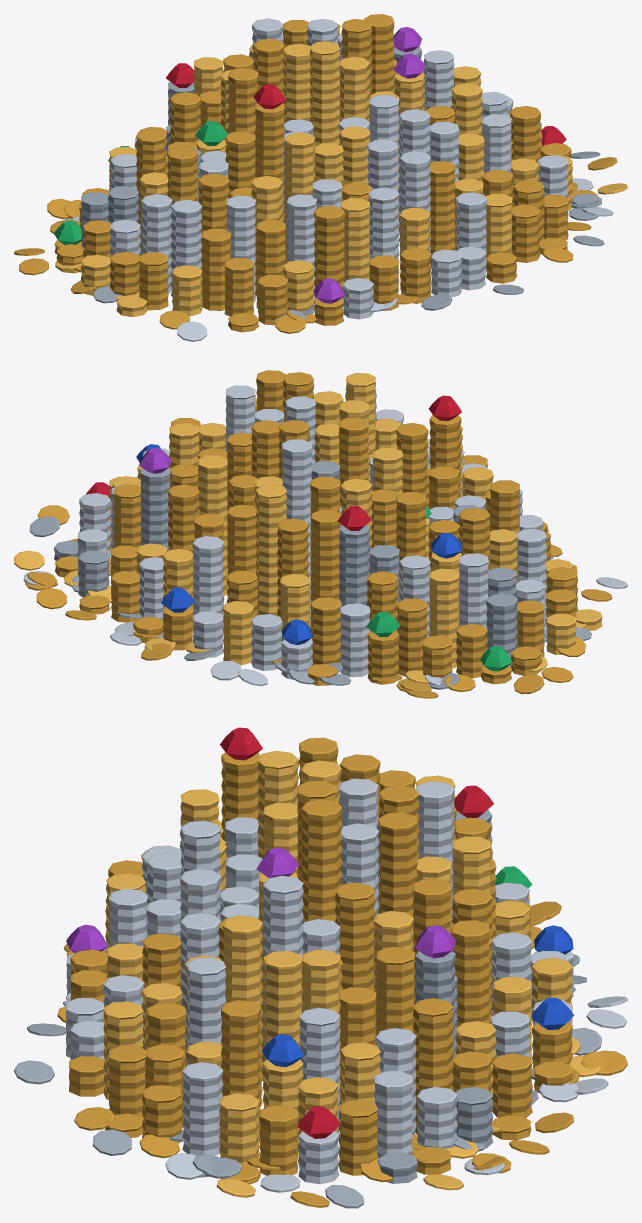
Rendered from PileLarge.fbx.
3 renders of one model, top to bottom at view 1: azimuth 30°, elevation 25°; view 2: azimuth 150°, elevation 25°; view 3: azimuth 270°, elevation 25°, orthographic. The views are drawn at different scales.
Parts seen in each view (by area): view 1: PileLarge; view 2: PileLarge; view 3: PileLarge.
Boxes of the visible parts, bbox=[...] form: PileLarge: bbox=[14, 14, 627, 341]; PileLarge: bbox=[14, 370, 627, 698]; PileLarge: bbox=[14, 727, 627, 1208].
Size of the model in its own units: 144 by 49.8 by 105.
